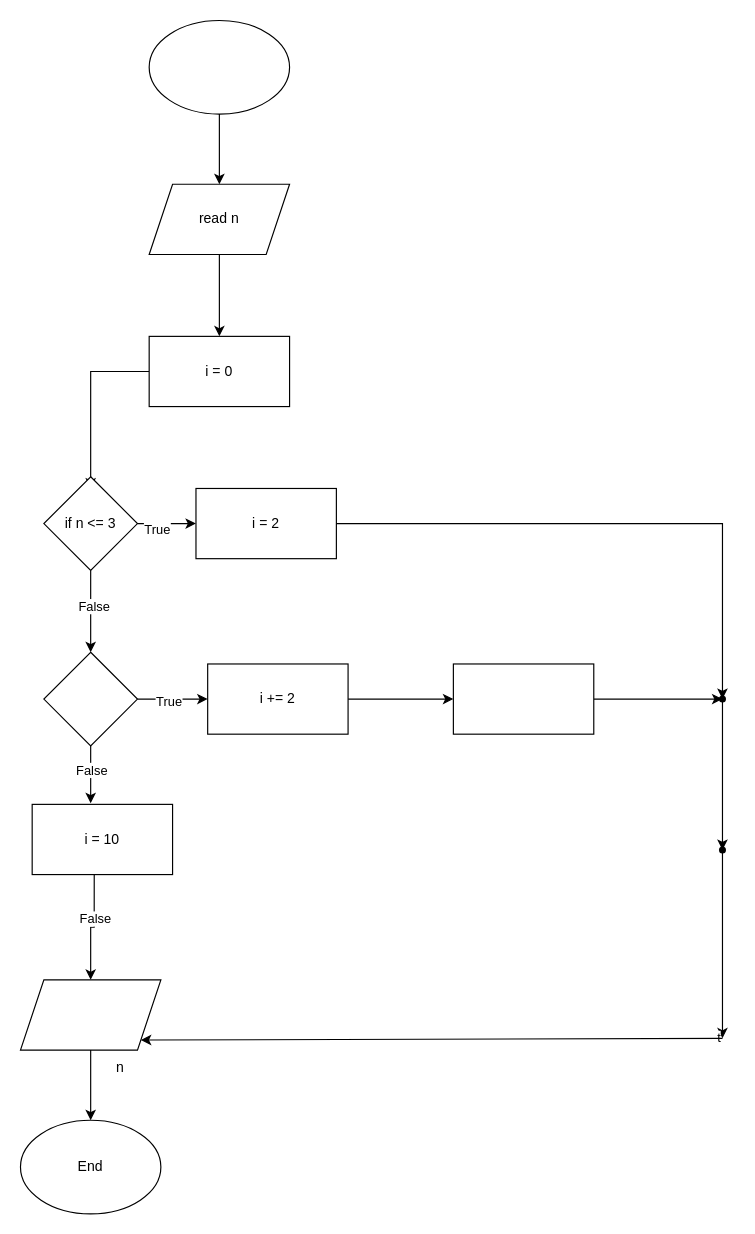
Some shapes in this 755 by 1234 pixel diagram are drawn without their labels. Each missing label, with the box of its shape:
i += 2 +(n-3) *0.50: (452, 663, 594, 734)
if n > 3 and n<17: (43, 651, 137, 746)
Start: (148, 19, 290, 114)
write i: (19, 979, 161, 1050)
